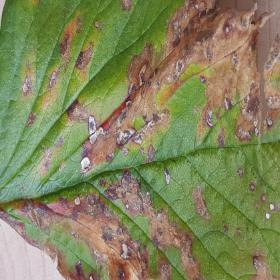Angular Leafspot: (0, 0, 279, 279)
